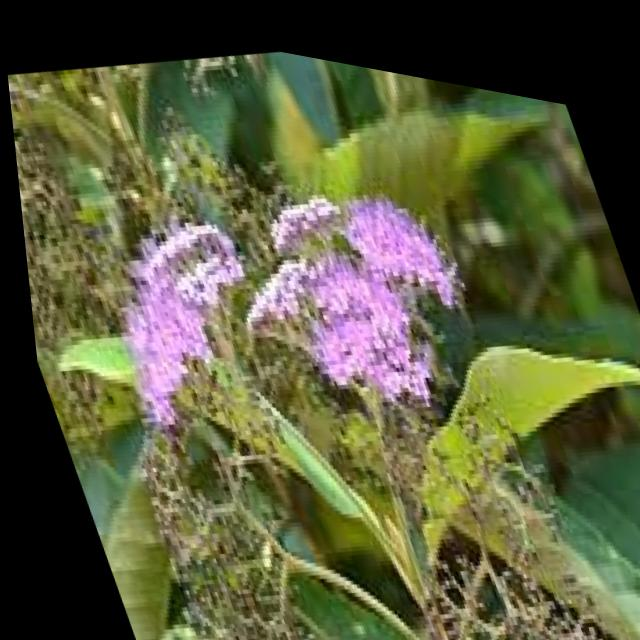Flower: (206, 131, 506, 416), (62, 191, 278, 456)
